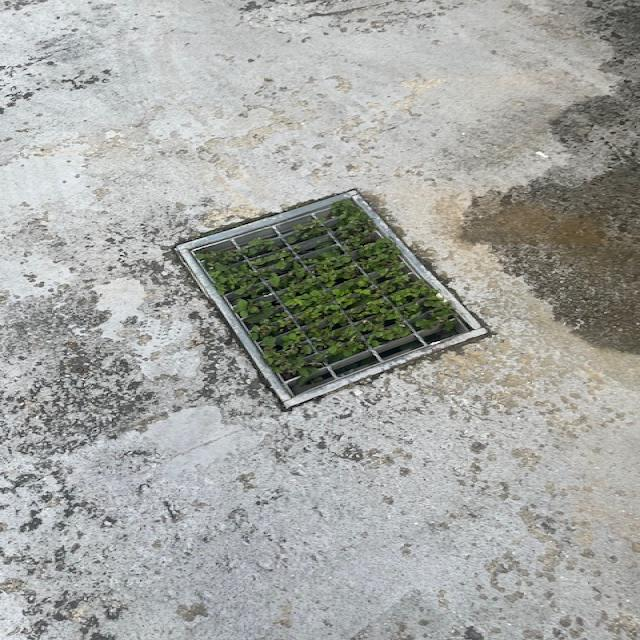drain_area: (312, 322, 466, 385), (195, 206, 335, 257)
drain_full: (192, 199, 472, 398)
